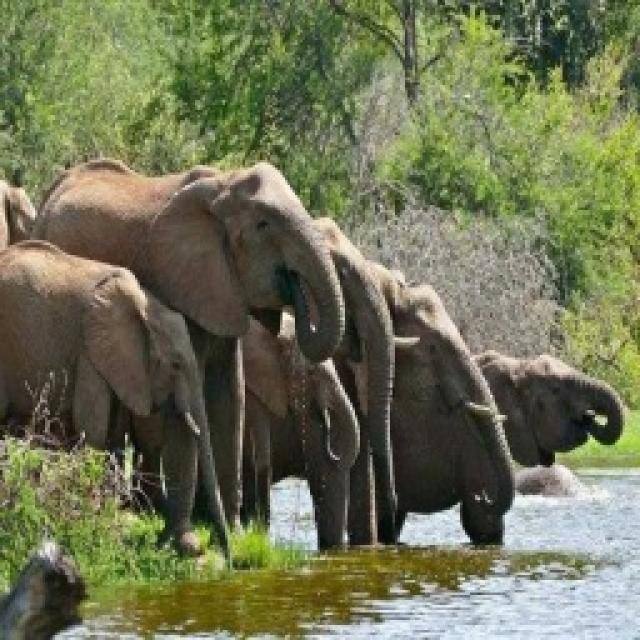not_pig: (40, 154, 350, 566), (0, 238, 230, 562)
